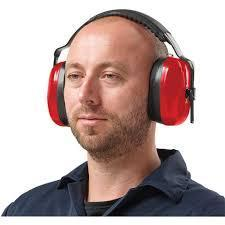Ear_protector: (146, 52, 192, 132), (48, 58, 69, 134)
Humans: (2, 13, 225, 217)
